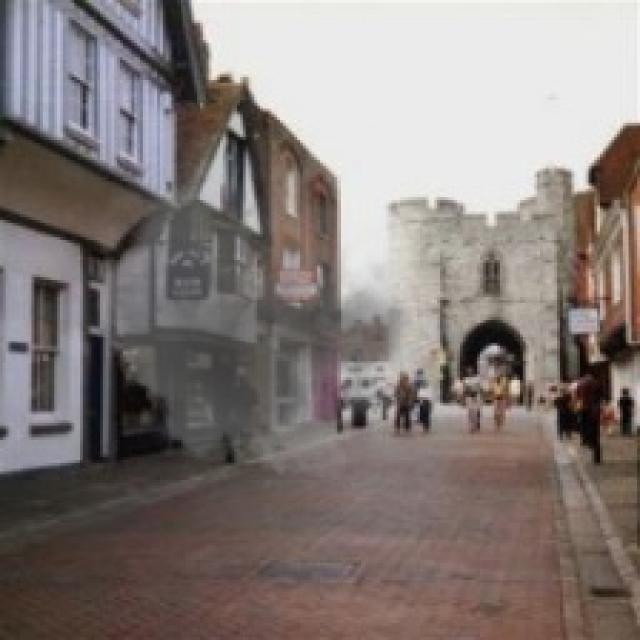Smoke: (77, 126, 440, 494)
